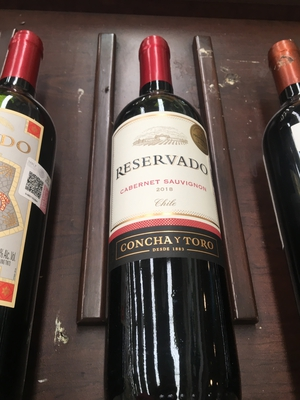reservado cabernet sauvignon: (87, 37, 224, 400)
